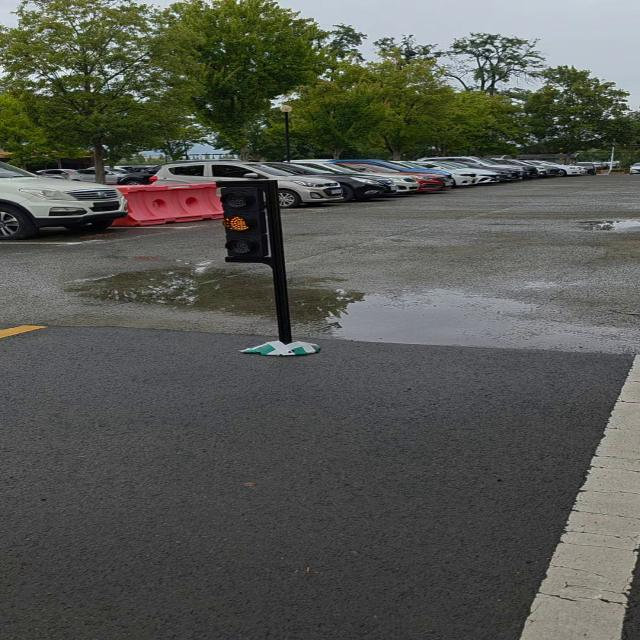yellow: (224, 182, 286, 258)
